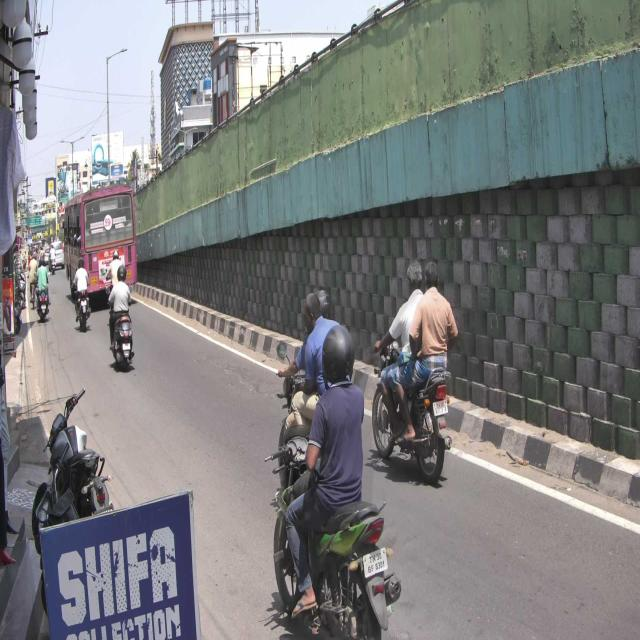double_rider: (371, 258, 456, 488)
single_rider: (272, 327, 368, 640)
